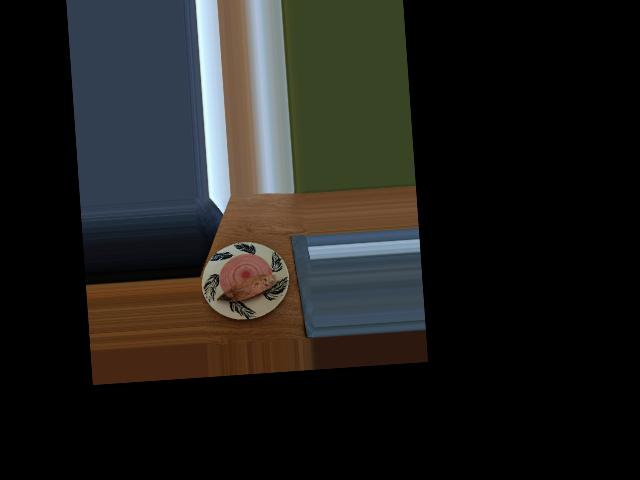sweet_potato: (220, 269, 275, 307)
